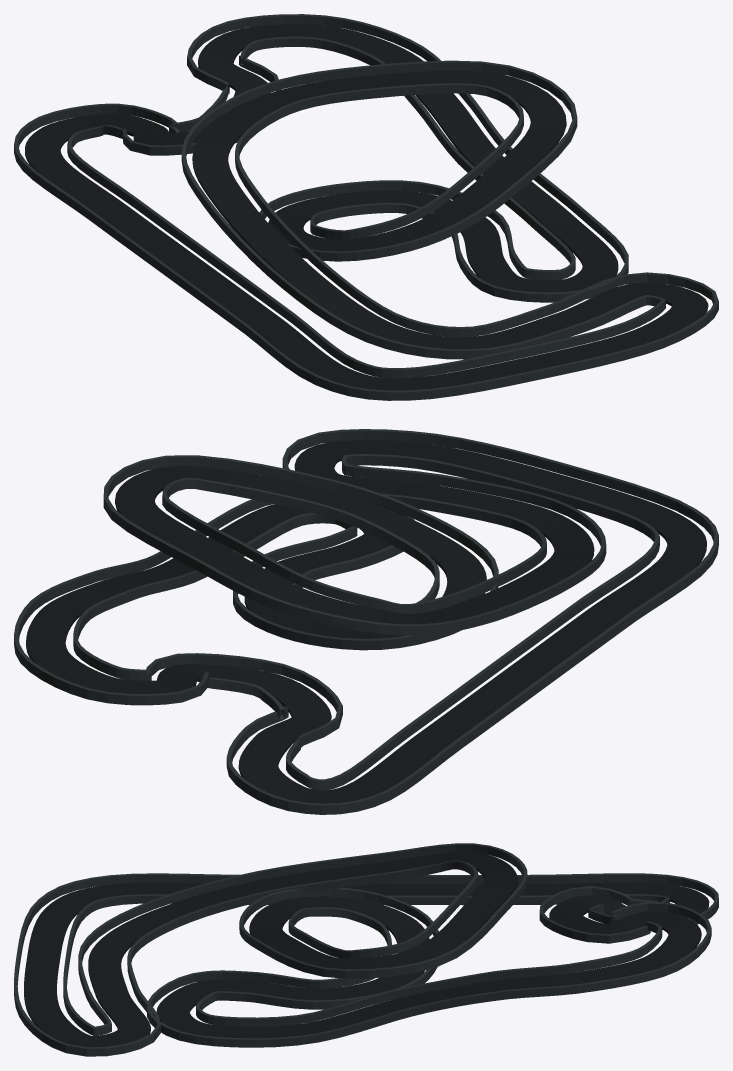
File: Alpine_Circuit_Collision.glb
The picture shows the model from 3 angles, top to bottom: view 1: azimuth 30°, elevation 25°; view 2: azimuth 150°, elevation 25°; view 3: azimuth 270°, elevation 25°; orthographic projection. The views are drawn at different scales.
Visible parts, largest first — view 1: COLLISION_Track, COLLISION_Barriers_1, COLLISION_Barriers_-1; view 2: COLLISION_Track, COLLISION_Barriers_-1, COLLISION_Barriers_1; view 3: COLLISION_Track, COLLISION_Barriers_1, COLLISION_Barriers_-1.
Boxes of the visible parts, x1,y1,x2,y2 form: COLLISION_Track: (25,24,708,390); COLLISION_Barriers_1: (14,14,718,400); COLLISION_Barriers_-1: (67,36,665,378); COLLISION_Track: (26,440,706,803); COLLISION_Barriers_-1: (73,454,659,790); COLLISION_Barriers_1: (14,429,718,814); COLLISION_Track: (24,852,709,1047); COLLISION_Barriers_1: (14,860,718,1056); COLLISION_Barriers_-1: (63,843,669,1035).
Size of the model in its own units: 2.42 by 0.5893 by 4.06.
2 materials, 1 textured.
